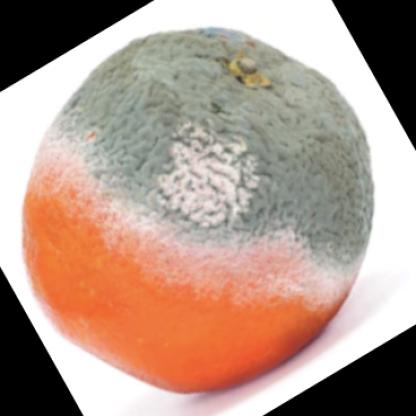rotten: (24, 26, 376, 396)
